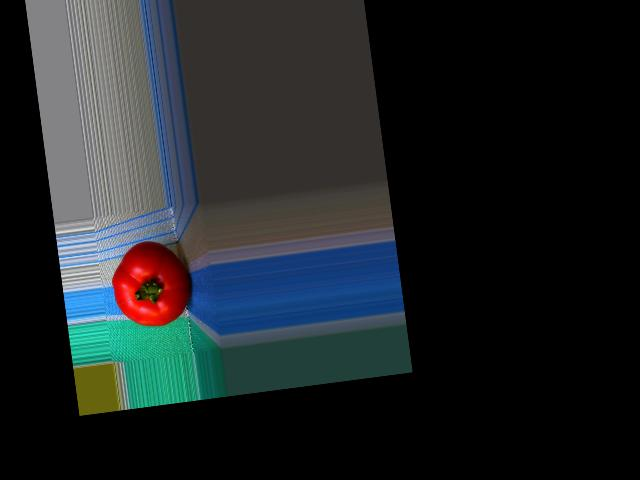tomato: (107, 237, 195, 331)
